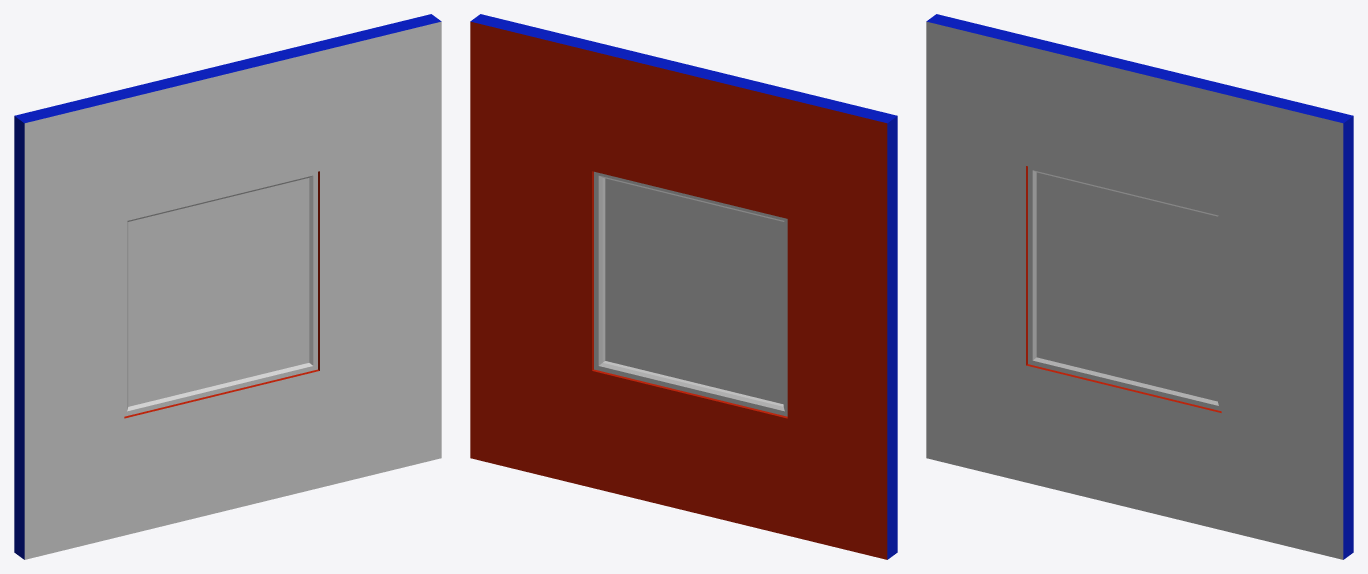
Rendered from wall(window).fbx.
The picture shows the model from 3 angles, left to right: view 1: azimuth 30°, elevation 25°; view 2: azimuth 150°, elevation 25°; view 3: azimuth 330°, elevation 25°; orthographic projection.
Visible parts, largest first — view 1: Wall, Window, Frame; view 2: Wall, Window, Frame; view 3: Wall, Window, Frame.
Part boxes in pixels (left/top/right/bottom): Wall: left=14, top=14, right=441, bottom=559; Window: left=128, top=178, right=309, bottom=406; Frame: left=124, top=171, right=317, bottom=416; Wall: left=470, top=14, right=897, bottom=559; Window: left=605, top=178, right=783, bottom=404; Frame: left=594, top=171, right=787, bottom=416; Wall: left=926, top=14, right=1353, bottom=559; Window: left=1036, top=172, right=1217, bottom=401; Frame: left=1028, top=166, right=1221, bottom=411.
Size of the model in its own units: 350 by 350 by 15.
